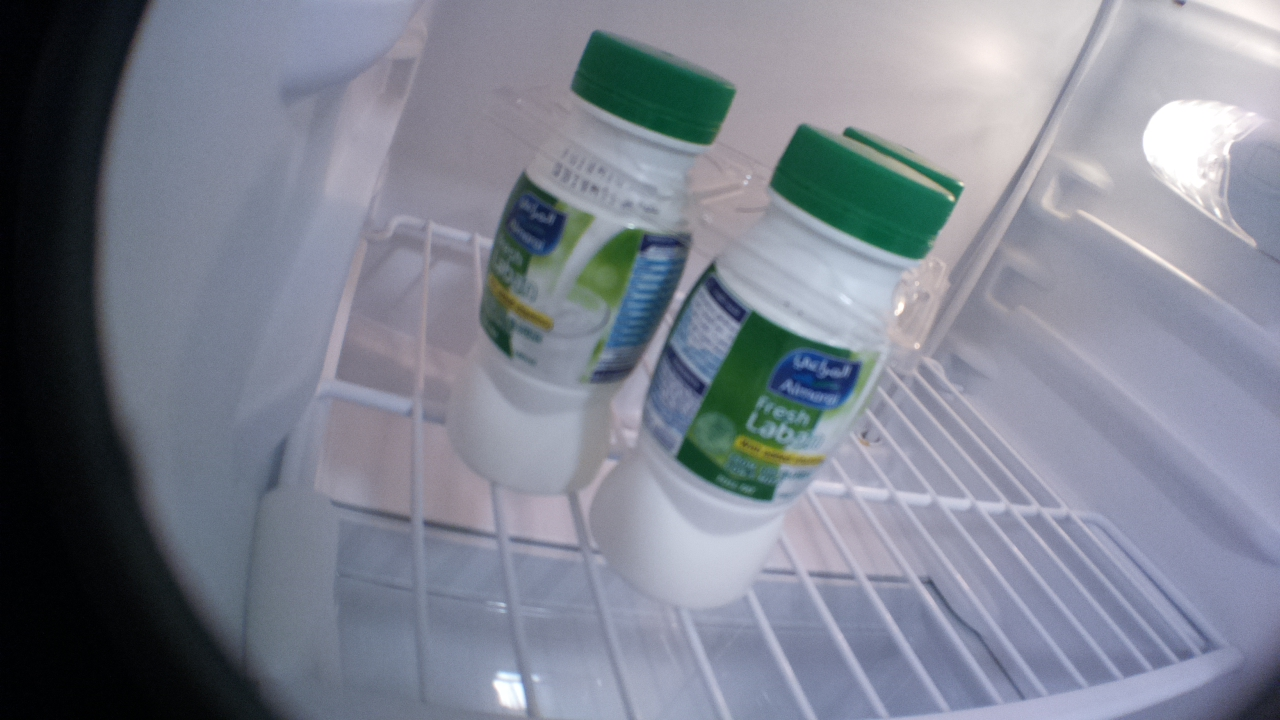laban: (589, 125, 955, 612), (442, 28, 736, 495), (833, 114, 965, 224)
